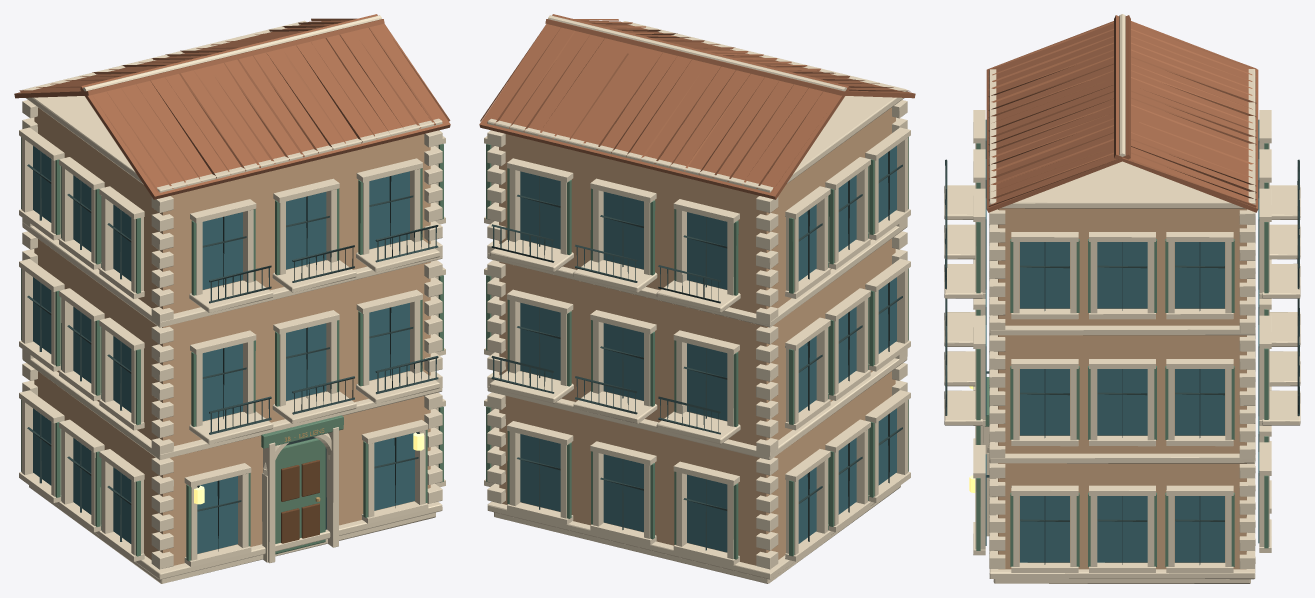
File: italie-3-lod.glb
The picture shows the model from 3 angles, left to right: view 1: azimuth 30°, elevation 25°; view 2: azimuth 150°, elevation 25°; view 3: azimuth 270°, elevation 25°; orthographic projection. The views are drawn at different scales.
Parts seen in each view (by area): view 1: italie-3_Dressed stone.001, italie-3_Masonry plaster.001, italie-3_Regional roof.001, italie-3_Window blue.001, italie-3_Regional painted wood.001, italie-3_Forged midnight.001, italie-3_Walnut.001; view 2: italie-3_Dressed stone.001, italie-3_Masonry plaster.001, italie-3_Regional roof.001, italie-3_Window blue.001, italie-3_Regional painted wood.001, italie-3_Forged midnight.001; view 3: italie-3_Dressed stone.001, italie-3_Regional roof.001, italie-3_Window blue.001, italie-3_Masonry plaster.001, italie-3_Regional painted wood.001, italie-3_Forged midnight.001.
Part boxes in pixels (x1=…): italie-3_Dressed stone.001: x1=19, y1=15, x2=445, y2=583; italie-3_Masonry plaster.001: x1=34, y1=107, x2=430, y2=565; italie-3_Regional roof.001: x1=14, y1=14, x2=450, y2=199; italie-3_Window blue.001: x1=33, y1=146, x2=414, y2=553; italie-3_Regional painted wood.001: x1=21, y1=137, x2=443, y2=561; italie-3_Forged midnight.001: x1=27, y1=151, x2=438, y2=551; italie-3_Walnut.001: x1=281, y1=460, x2=319, y2=543; italie-3_Dressed stone.001: x1=484, y1=15, x2=910, y2=583; italie-3_Masonry plaster.001: x1=499, y1=107, x2=895, y2=565; italie-3_Regional roof.001: x1=479, y1=14, x2=915, y2=199; italie-3_Window blue.001: x1=520, y1=146, x2=896, y2=552; italie-3_Regional painted wood.001: x1=486, y1=137, x2=908, y2=559; italie-3_Forged midnight.001: x1=491, y1=151, x2=902, y2=550; italie-3_Dressed stone.001: x1=944, y1=14, x2=1300, y2=583; italie-3_Regional roof.001: x1=986, y1=15, x2=1258, y2=212; italie-3_Window blue.001: x1=985, y1=119, x2=1259, y2=562; italie-3_Masonry plaster.001: x1=998, y1=208, x2=1246, y2=569; italie-3_Regional painted wood.001: x1=976, y1=143, x2=1268, y2=566; italie-3_Forged midnight.001: x1=945, y1=159, x2=1299, y2=564.
Bounding box in the file's own units: 13.93 × 19.23 × 14.25.
